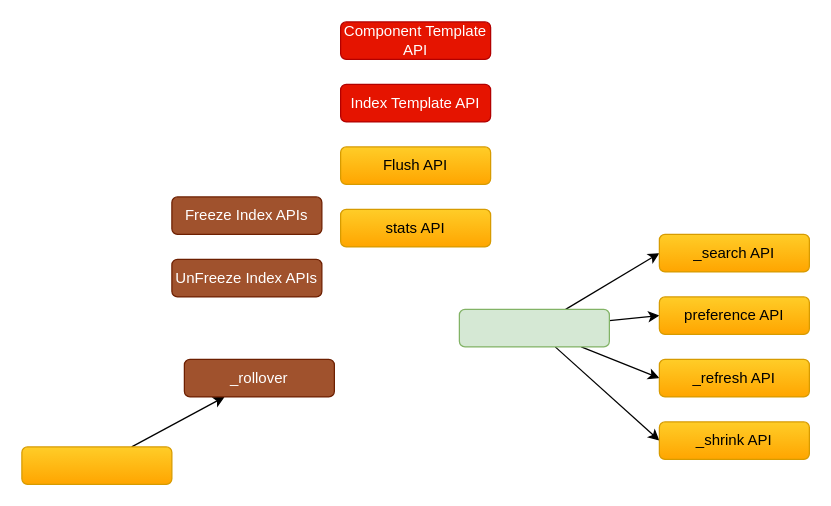
The diagram is 831 pixels wide and 506 high, and some of its shapes have lost their labels. Here are the shapes that lost their labels. From the top down, the box of each, then its label:
(458, 308, 609, 347): [indexName] API
(21, 446, 172, 484): Alias API
